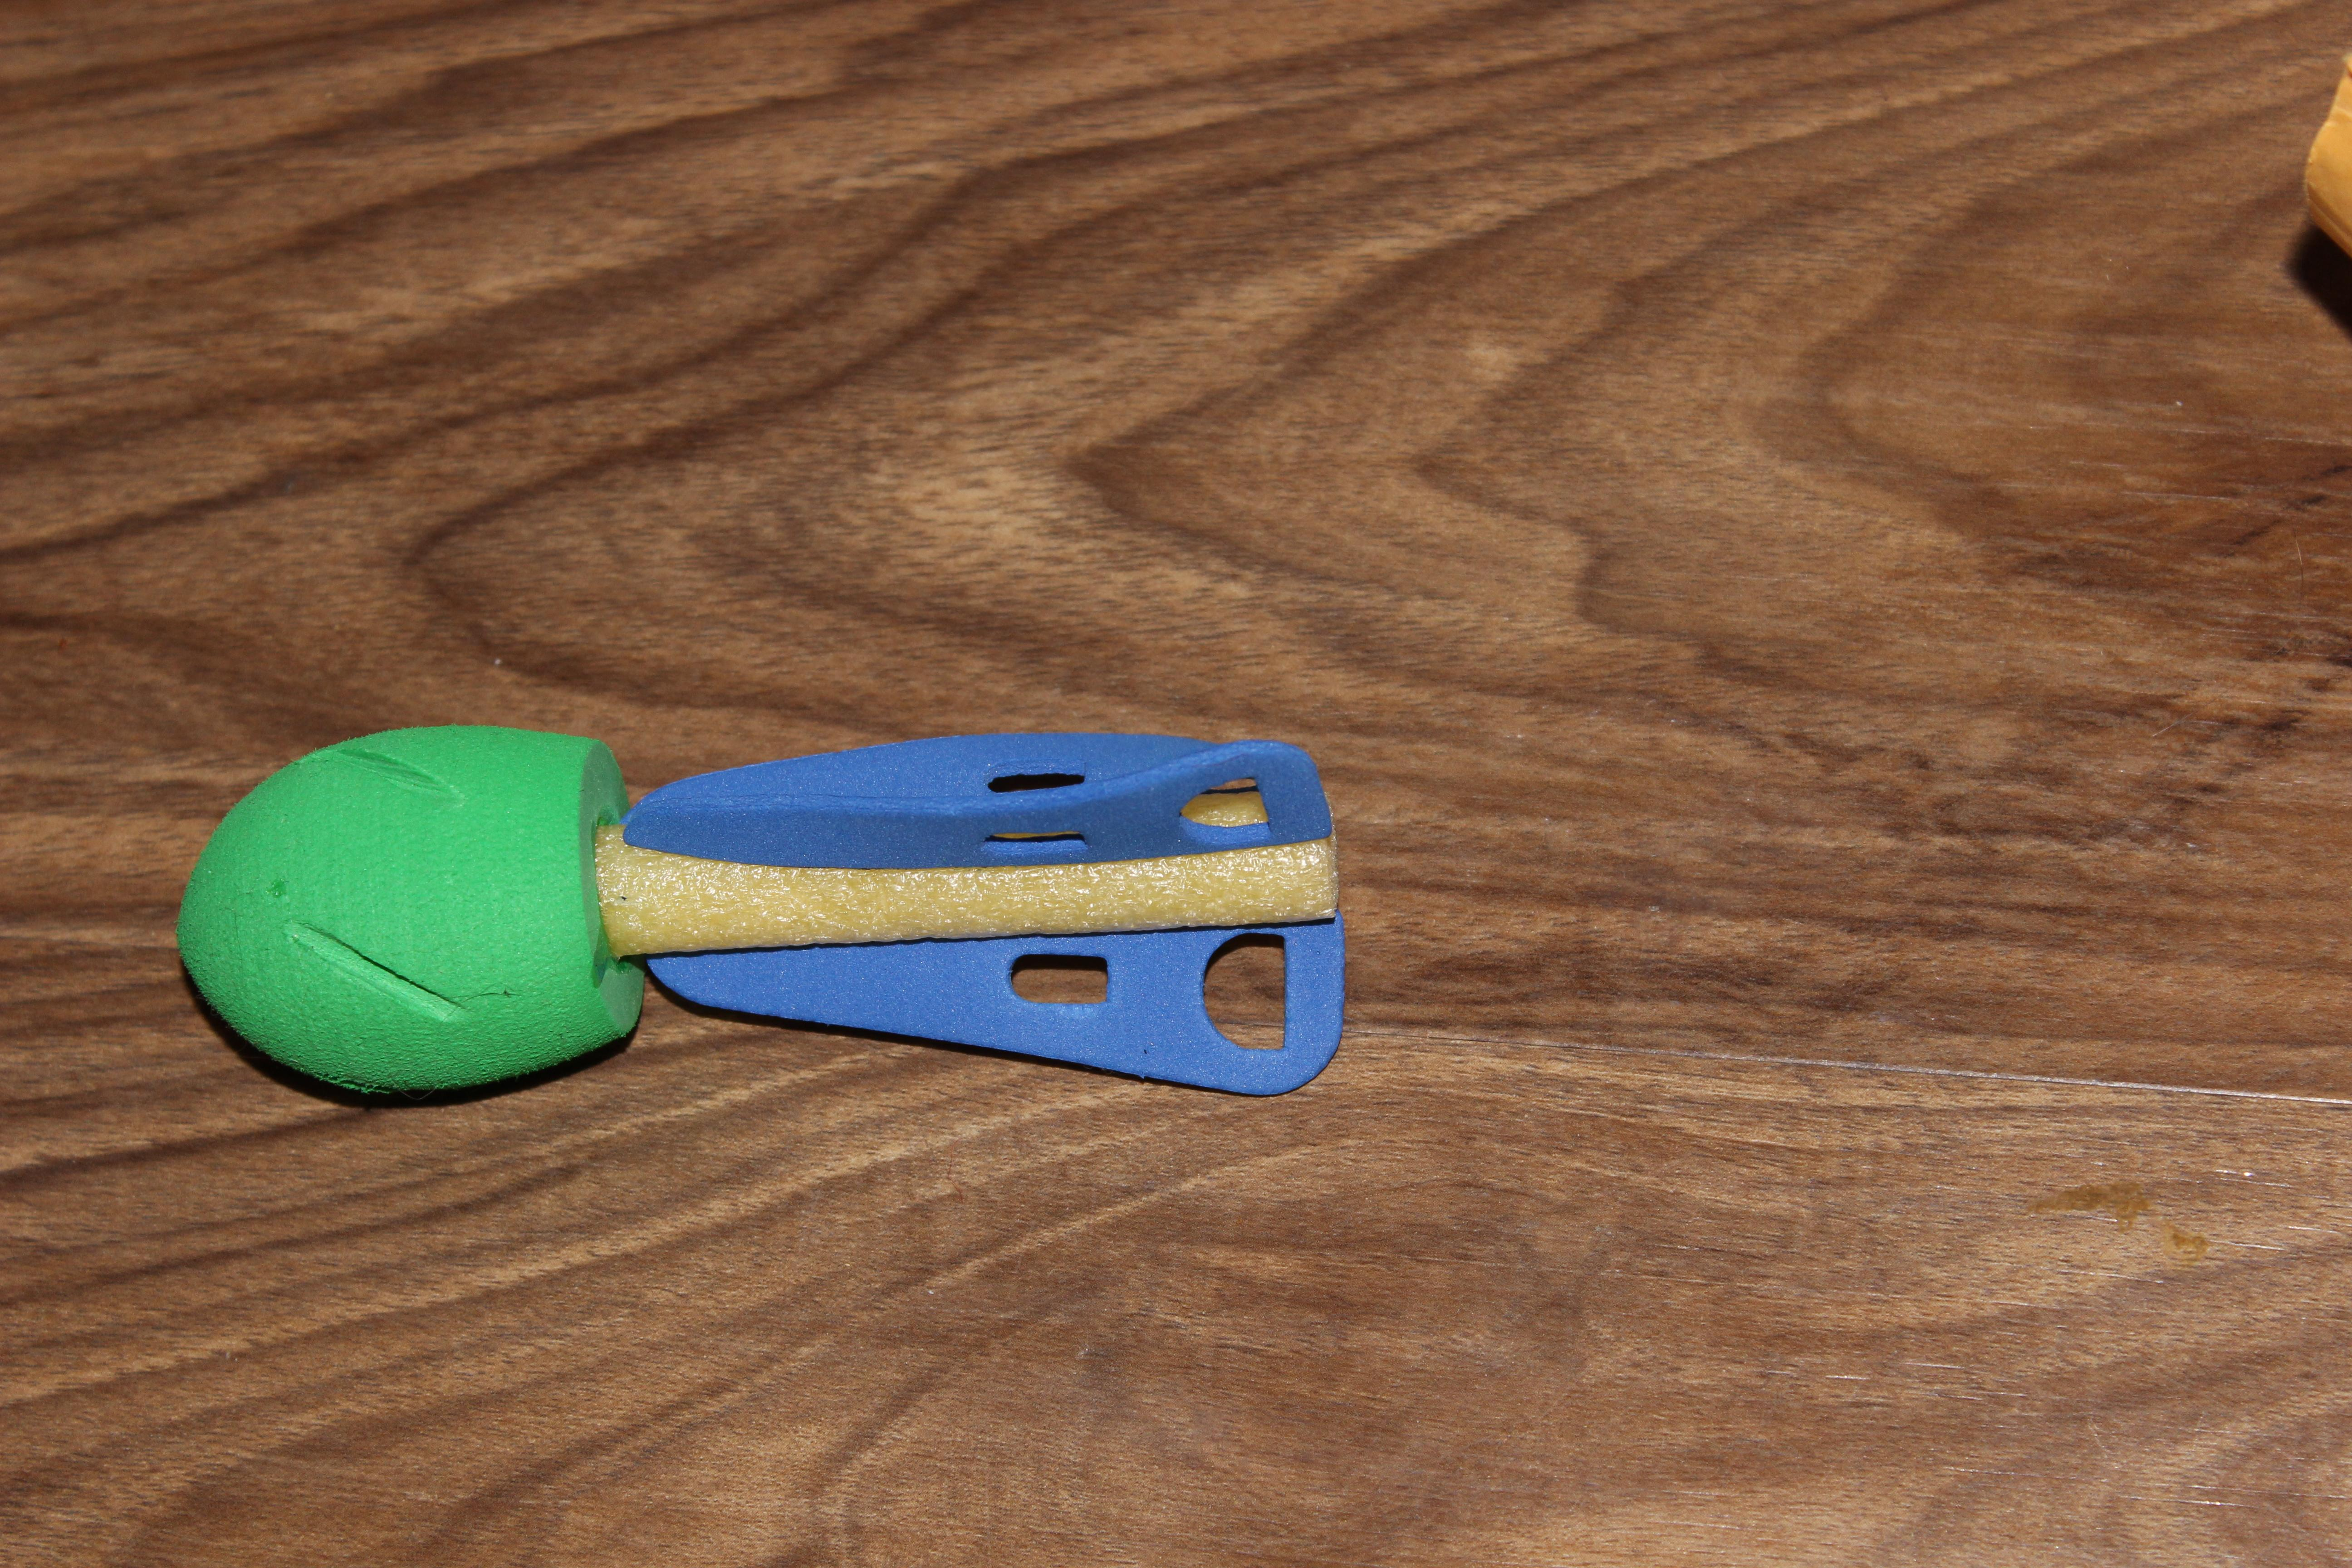foamDart: (163, 686, 1393, 1150)
